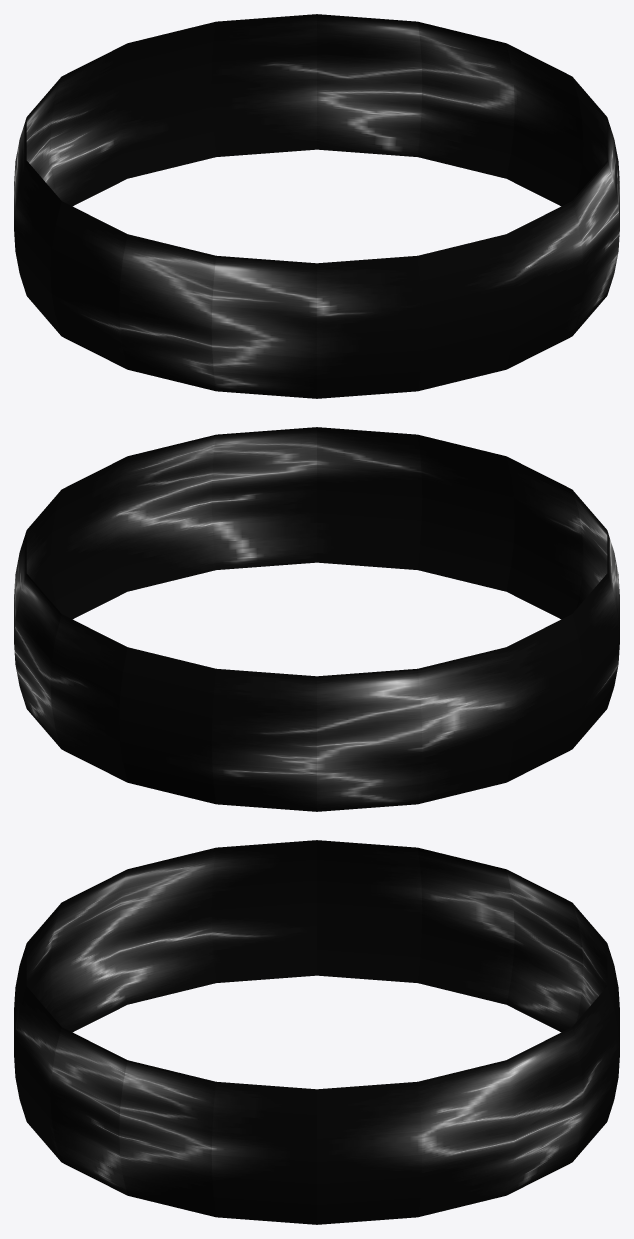
Rendered from 0489_yingfukuang.glb.
The picture shows the model from 3 angles, top to bottom: view 1: azimuth 30°, elevation 25°; view 2: azimuth 150°, elevation 25°; view 3: azimuth 270°, elevation 25°; orthographic projection.
Size of the model in its own units: 2.2 by 0.5348 by 2.17.
Materials: 1 (1 with a texture image).
